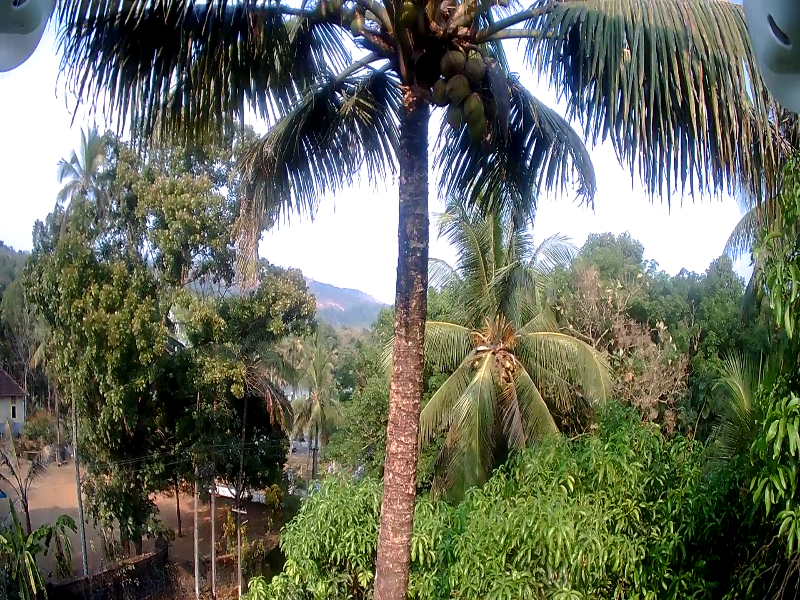coconut: (466, 109, 488, 139), (446, 74, 466, 100), (441, 53, 464, 75), (461, 88, 478, 115), (348, 13, 366, 34), (467, 47, 481, 73), (446, 105, 458, 130), (433, 80, 446, 100)
